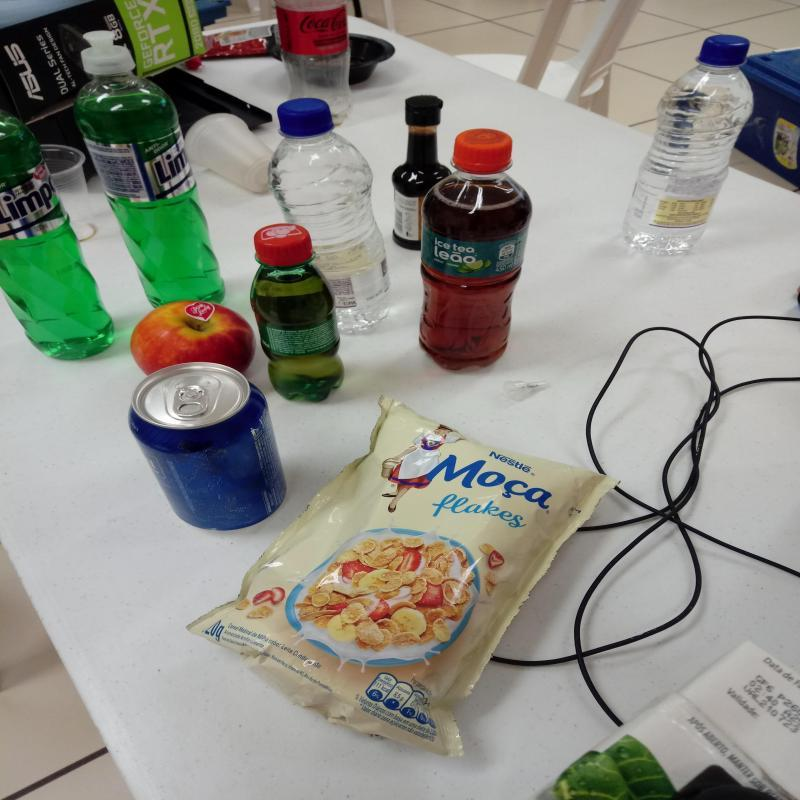Apple: (129, 301, 254, 378)
Cleaner: (74, 30, 226, 308), (0, 114, 114, 364)
CornFlakes: (187, 400, 615, 760)
EnglishSauce: (393, 96, 449, 250)
Guarana: (249, 221, 344, 408)
IceTea: (418, 128, 533, 372)
TomatoSauce: (204, 25, 277, 58)
Tonic: (127, 362, 286, 534)
Water: (619, 38, 754, 260), (269, 98, 391, 332)
